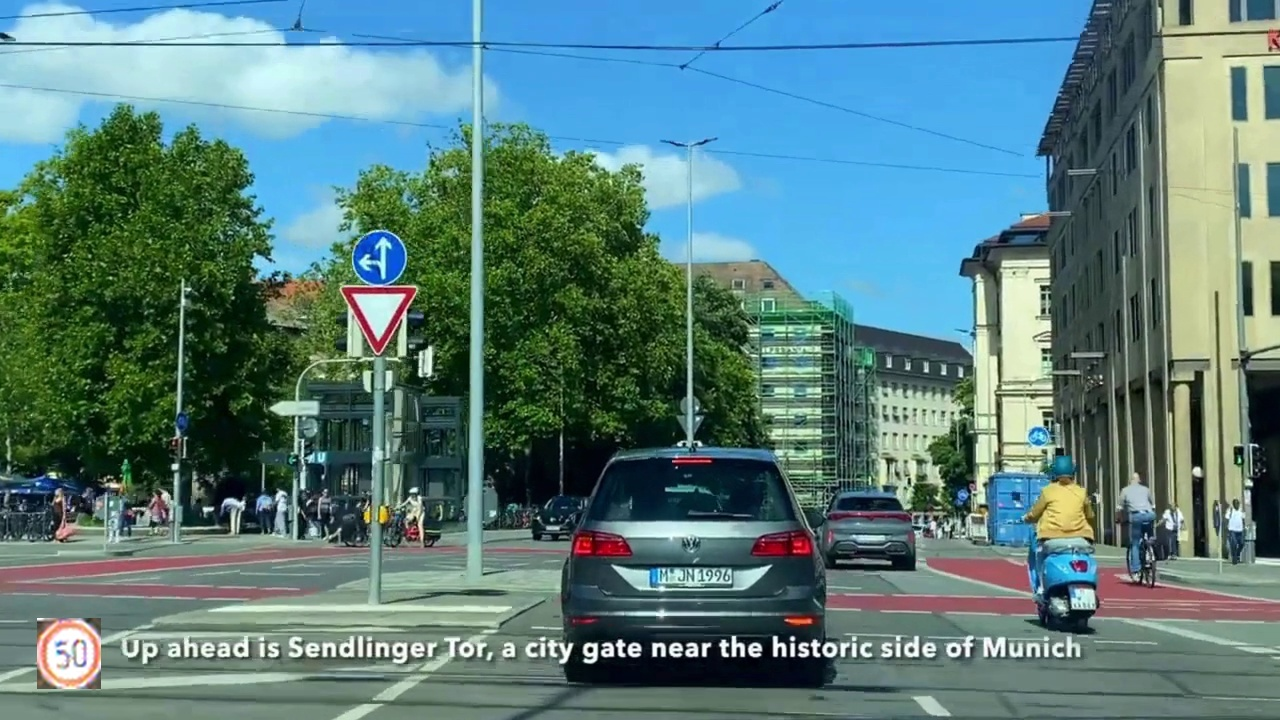Speed 50: (37, 618, 101, 689)
